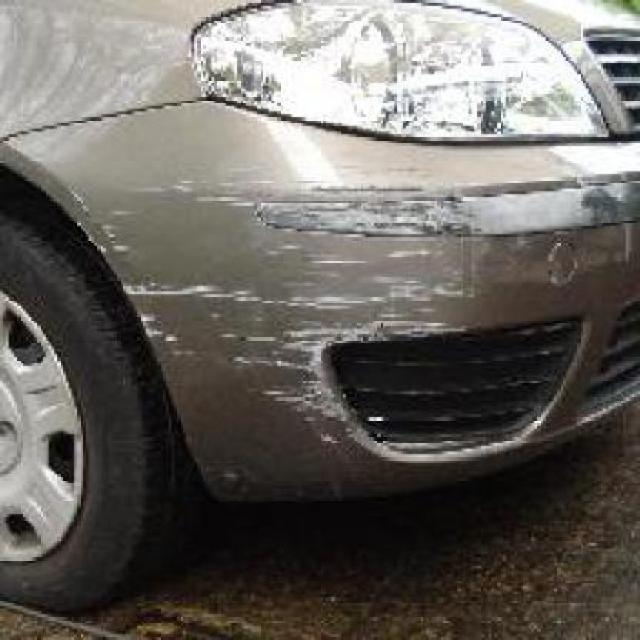dent-or-scratch: (108, 172, 467, 406)
